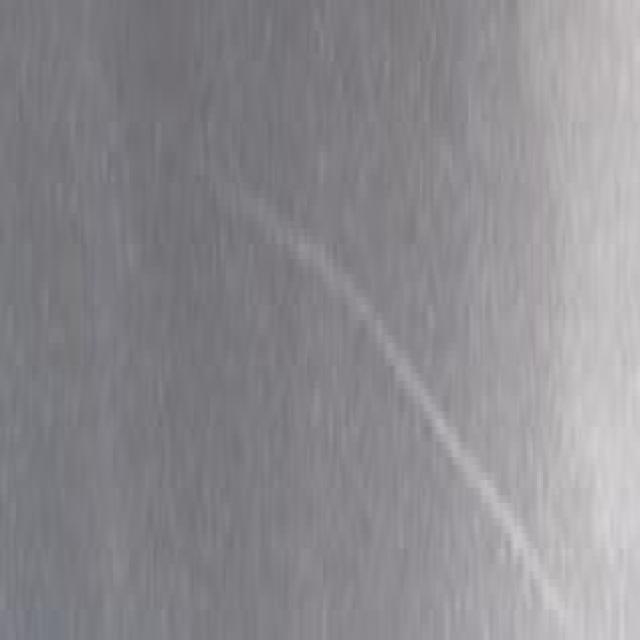scratch: (208, 137, 576, 594)
